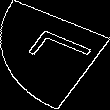L_SE: (15, 29, 95, 81)
